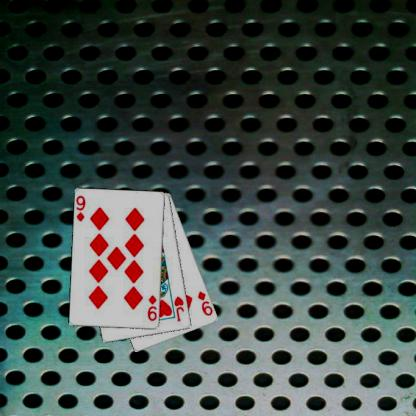9D: (195, 289, 214, 317), (74, 193, 86, 223), (146, 293, 158, 322)
JH: (172, 294, 185, 323)
